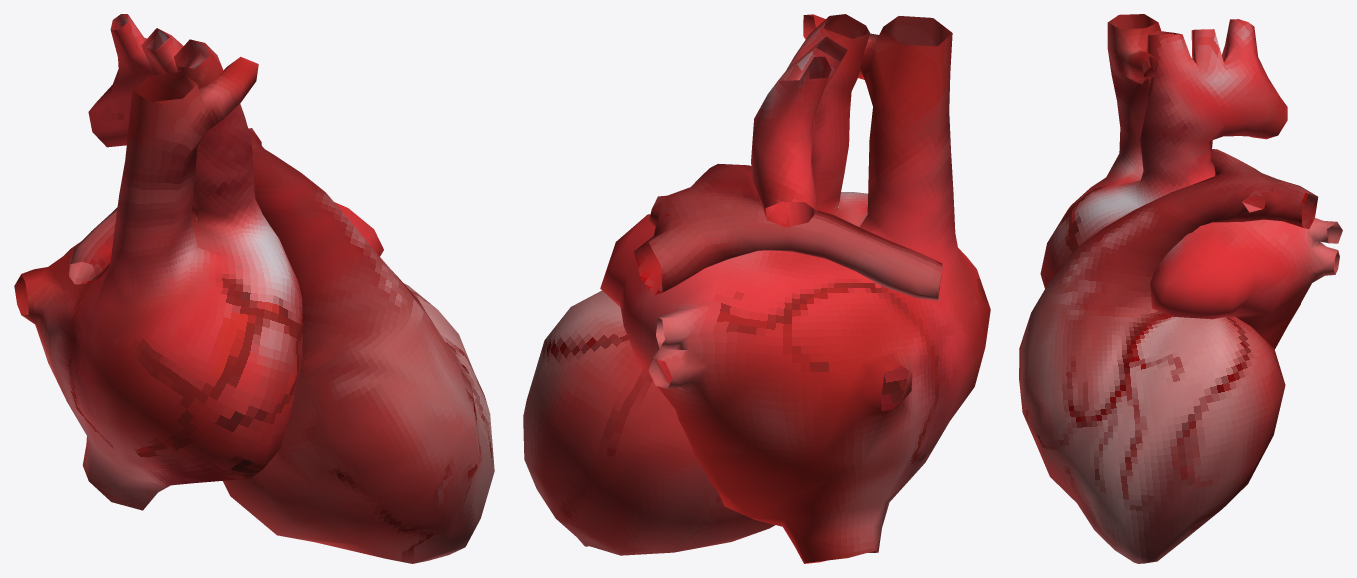
File: lowpoly_human_heart.glb
3 renders of one model, left to right at view 1: azimuth 30°, elevation 25°; view 2: azimuth 150°, elevation 25°; view 3: azimuth 270°, elevation 25°, orthographic. The views are drawn at different scales.
Parts seen in each view (by area): view 1: Heart2_7, Heart1_6; view 2: Heart2_7, Heart1_6; view 3: Heart1_6, Heart2_7.
Part boxes in pixels (bbox=[...]): Heart2_7: bbox=[14, 14, 383, 510]; Heart1_6: bbox=[69, 128, 494, 563]; Heart2_7: bbox=[600, 14, 990, 563]; Heart1_6: bbox=[523, 163, 942, 555]; Heart1_6: bbox=[1019, 149, 1318, 563]; Heart2_7: bbox=[1040, 14, 1342, 349].
Bounding box in the file's own units: 1.66 × 2.22 × 1.47.
2 materials, 2 textured.
